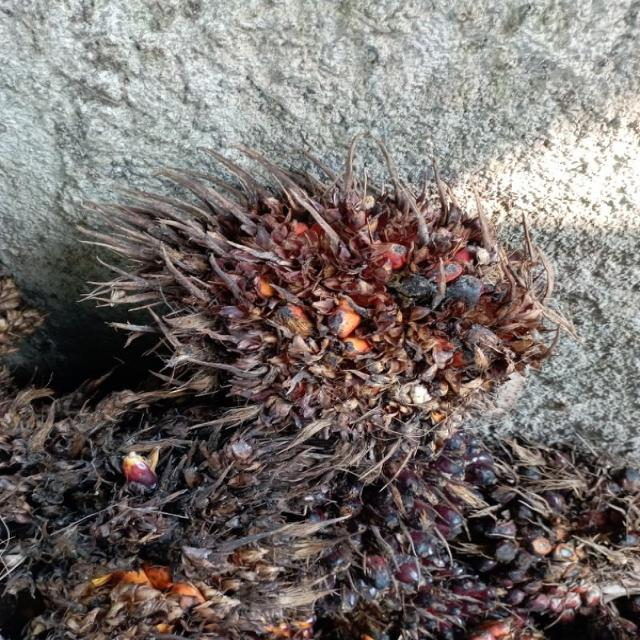fraksi 4: (61, 139, 622, 529)
